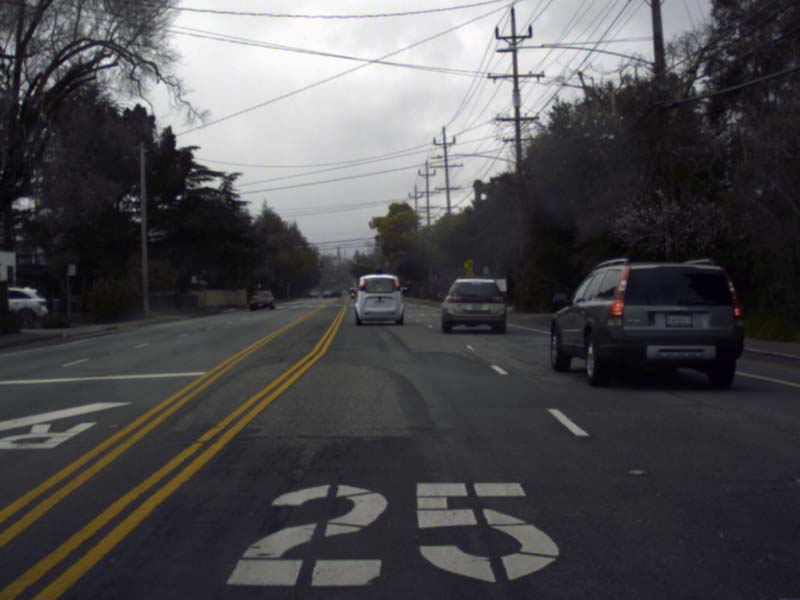Red: (353, 258, 358, 268)
